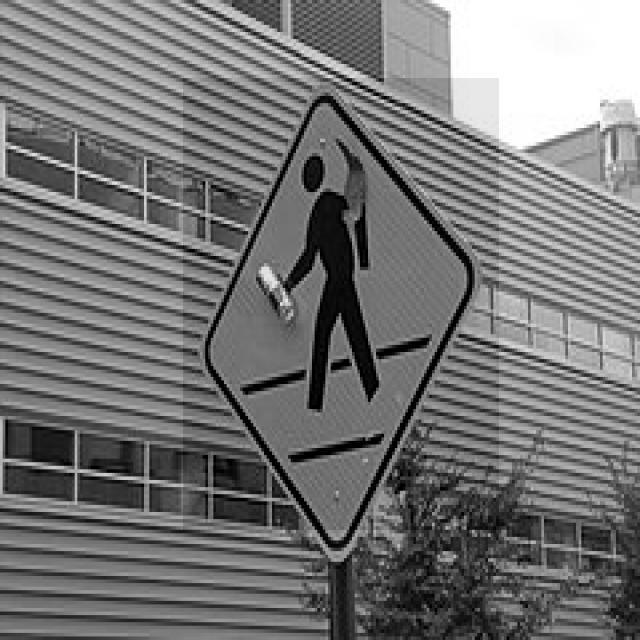pedestrian crossing: (176, 71, 492, 574)
